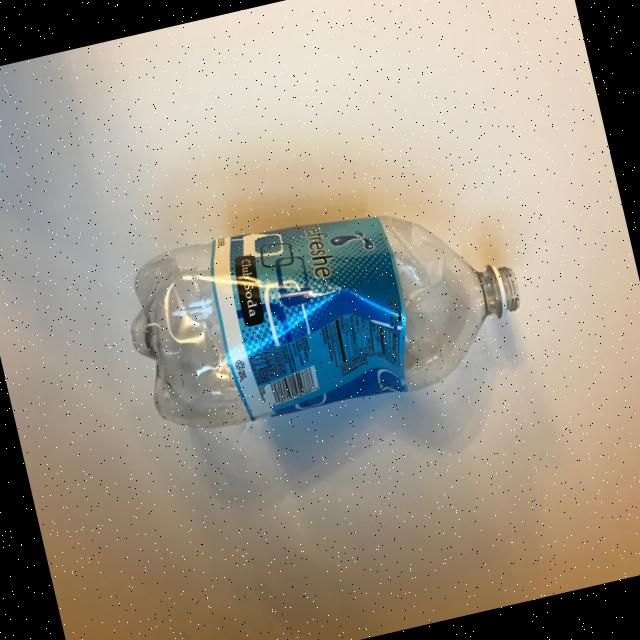plastic: (112, 172, 536, 450)
